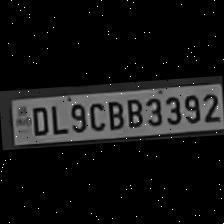2: (198, 88, 220, 122)
3: (144, 92, 162, 125), (162, 92, 180, 124)
9: (65, 99, 87, 132), (180, 90, 200, 123)
B: (122, 94, 144, 127), (103, 96, 123, 128)
C: (84, 97, 106, 130)
D: (28, 102, 49, 134)
L: (46, 100, 66, 134)
